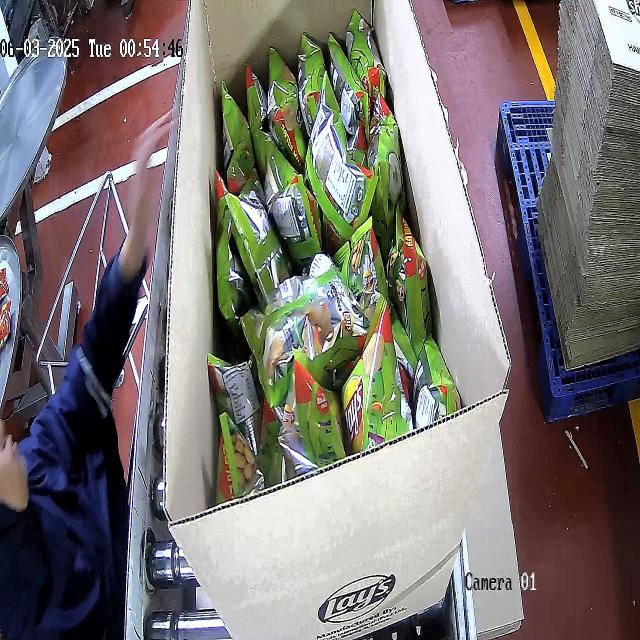YOGURT_HERB: (212, 9, 460, 496)
